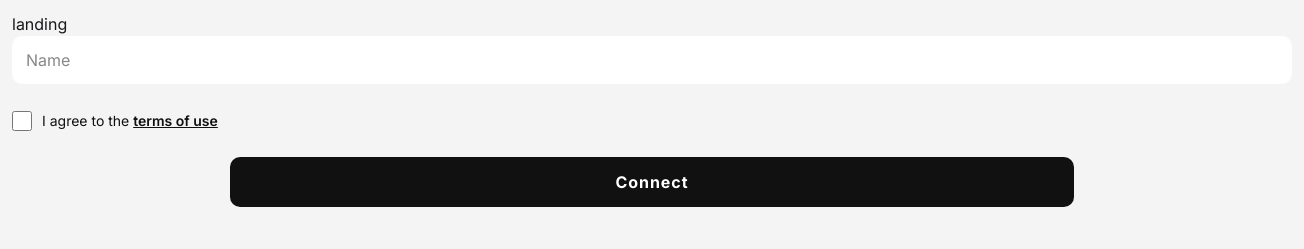
Test: Form edit-mode Connect › announces only the terms message when only the terms fail
Type "Sam" into the field at (652, 60), box 12,36 -> 1292,84
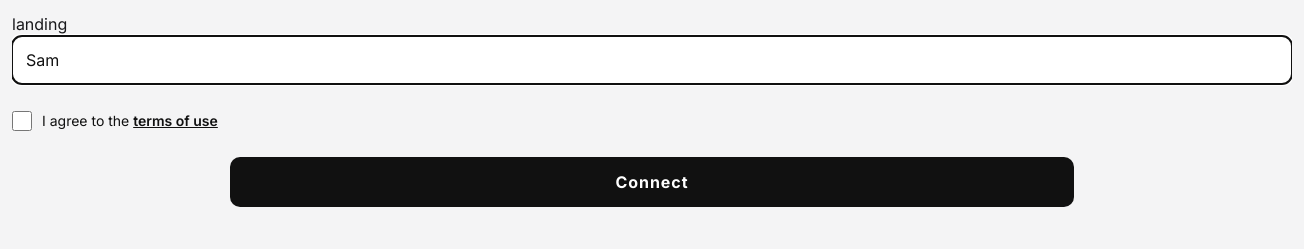
Click the button "Connect" at (652, 182), box 230,157 -> 1074,207
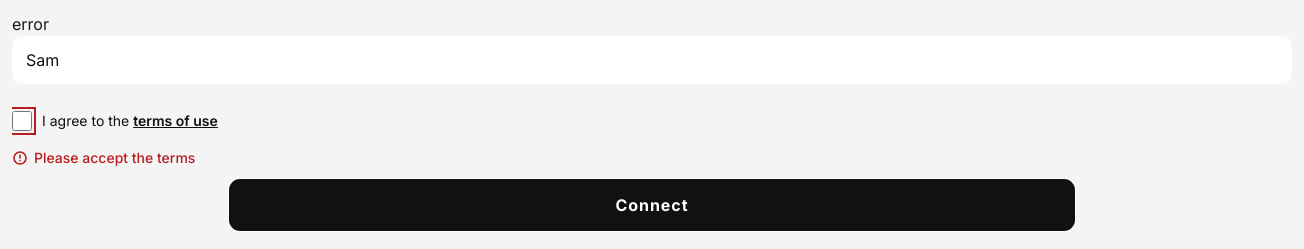
Expected: the number of messages is 1, 12,149 -> 195,166
Expected: the message reads "Please accept the terms", 34,149 -> 195,166
